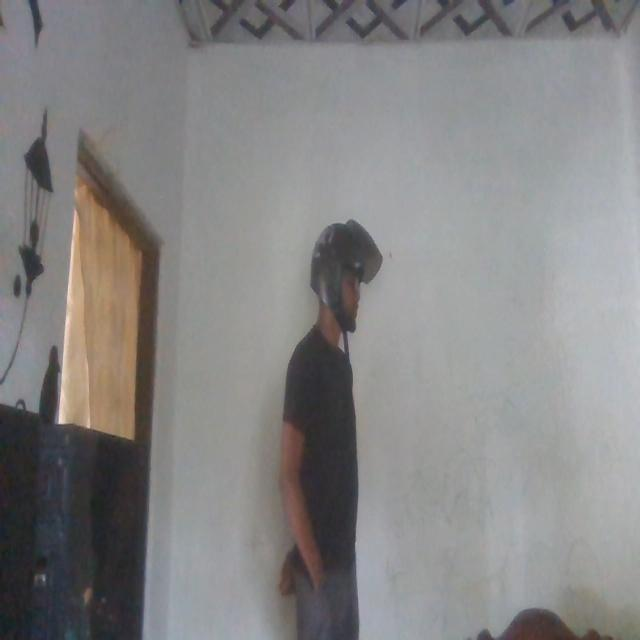Helmet_Wearer: (304, 220, 380, 345)
Person: (277, 217, 389, 640)
